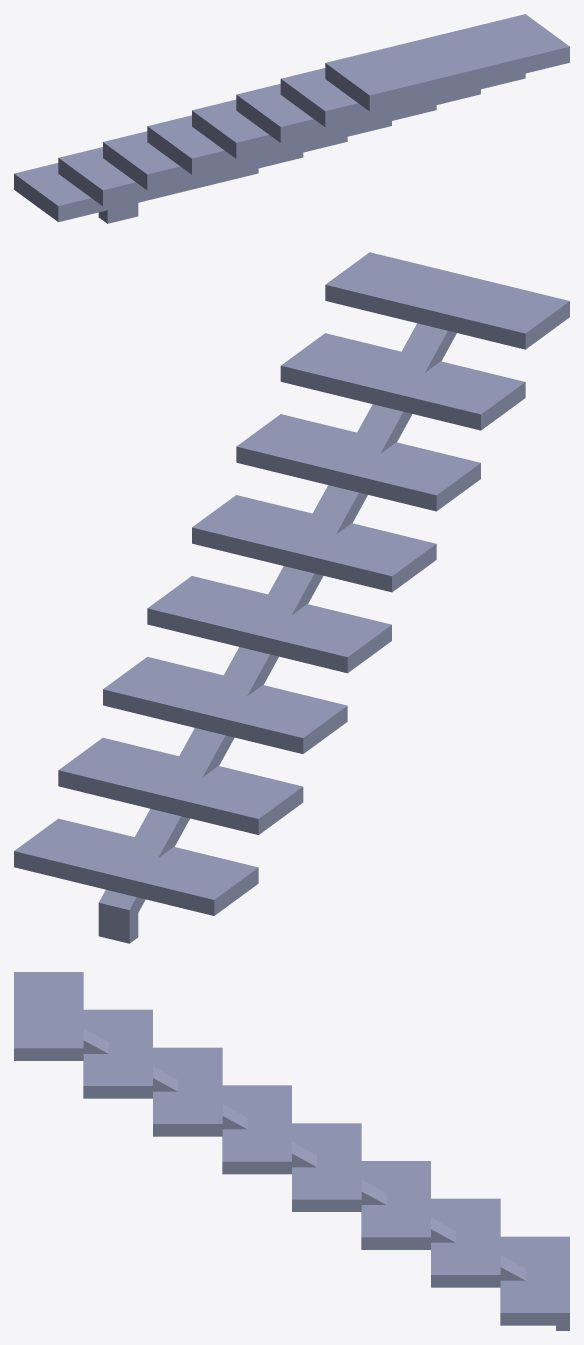
Rendered from stairs-center.obj.
3 views of the same model, one above another, from view 1: azimuth 30°, elevation 25°; view 2: azimuth 150°, elevation 25°; view 3: azimuth 270°, elevation 25° (orthographic). The views are drawn at different scales.
Bounding box in the file's own units: 1.3 × 2.5 × 4.
